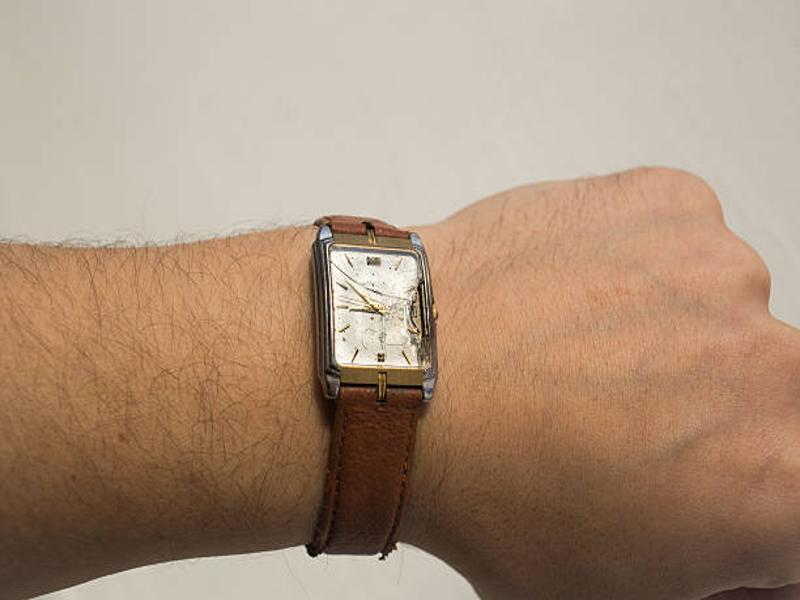watch: (298, 205, 440, 558)
